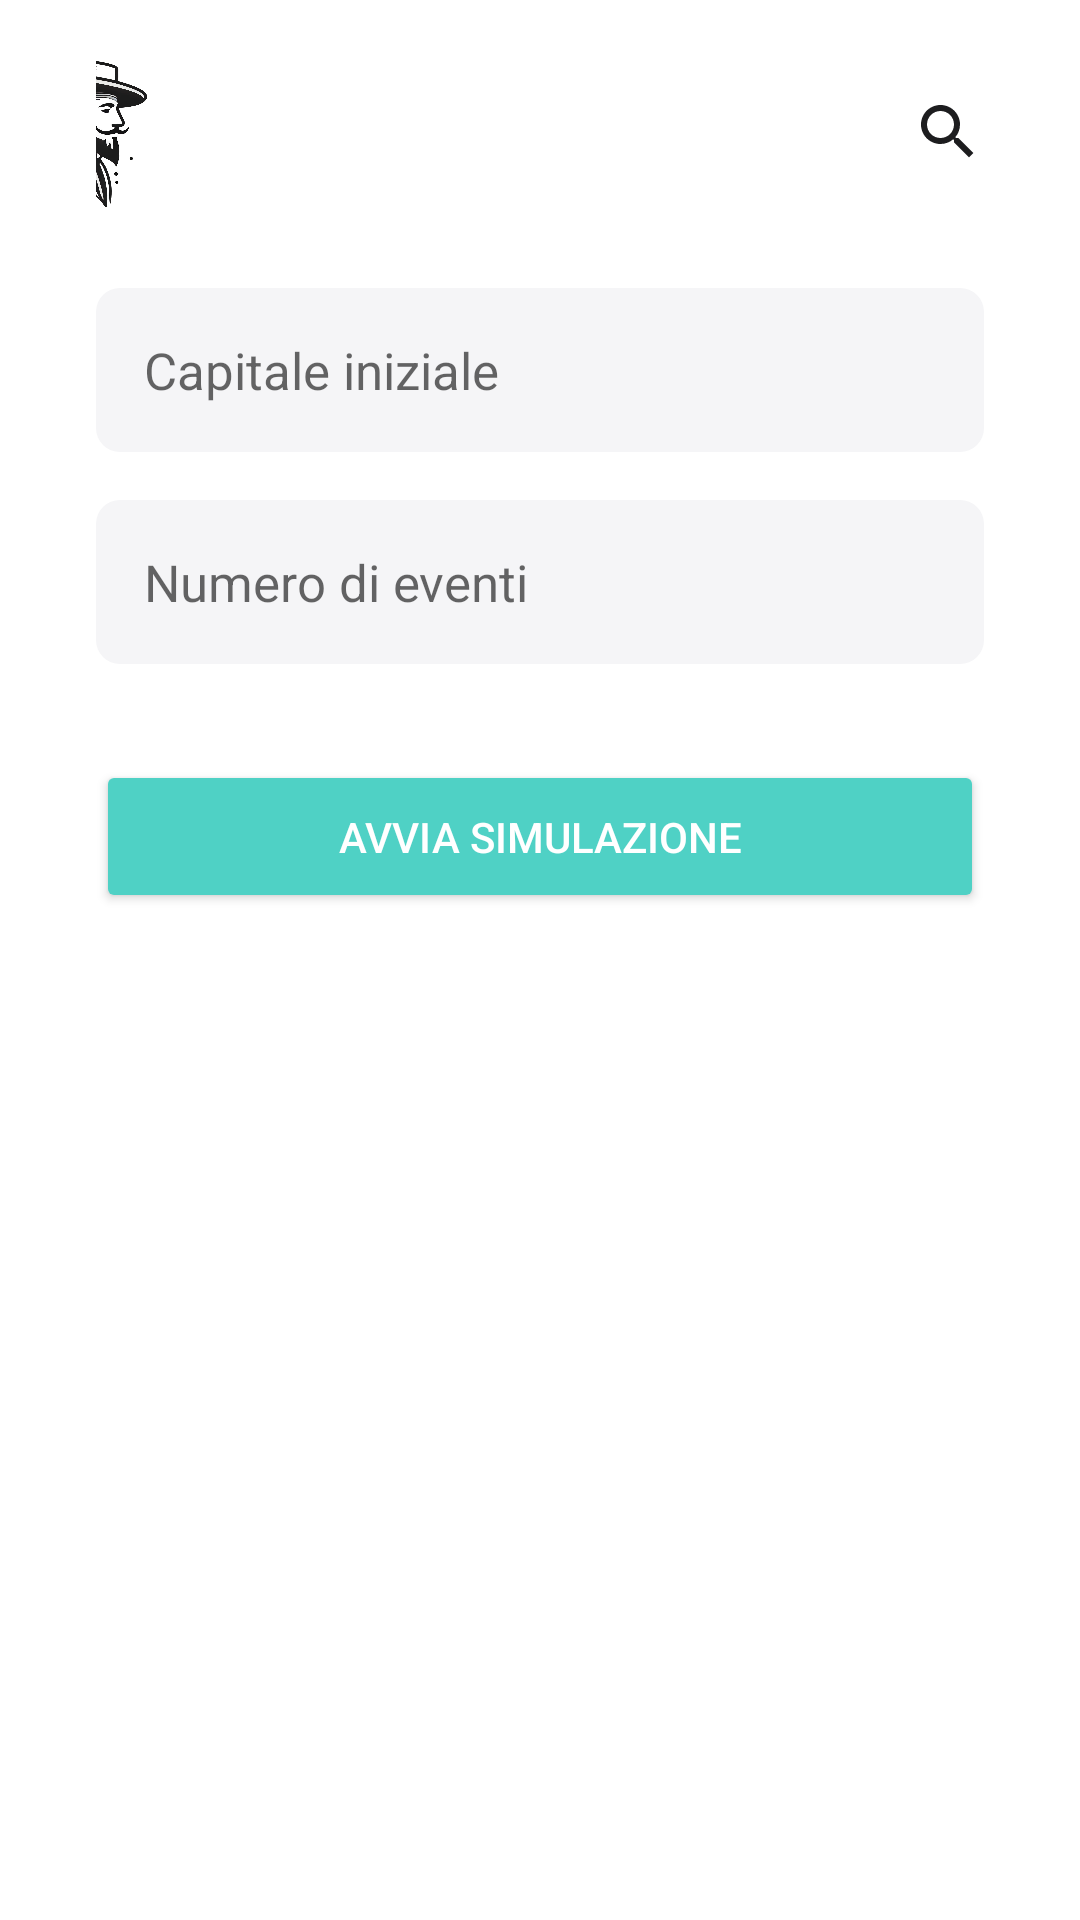

Icon bounding boxes for this 1080px x 1920px phone screenshot, format detection(x1, y1, x2, y2):
Cerca: detection(921, 105, 973, 157)
